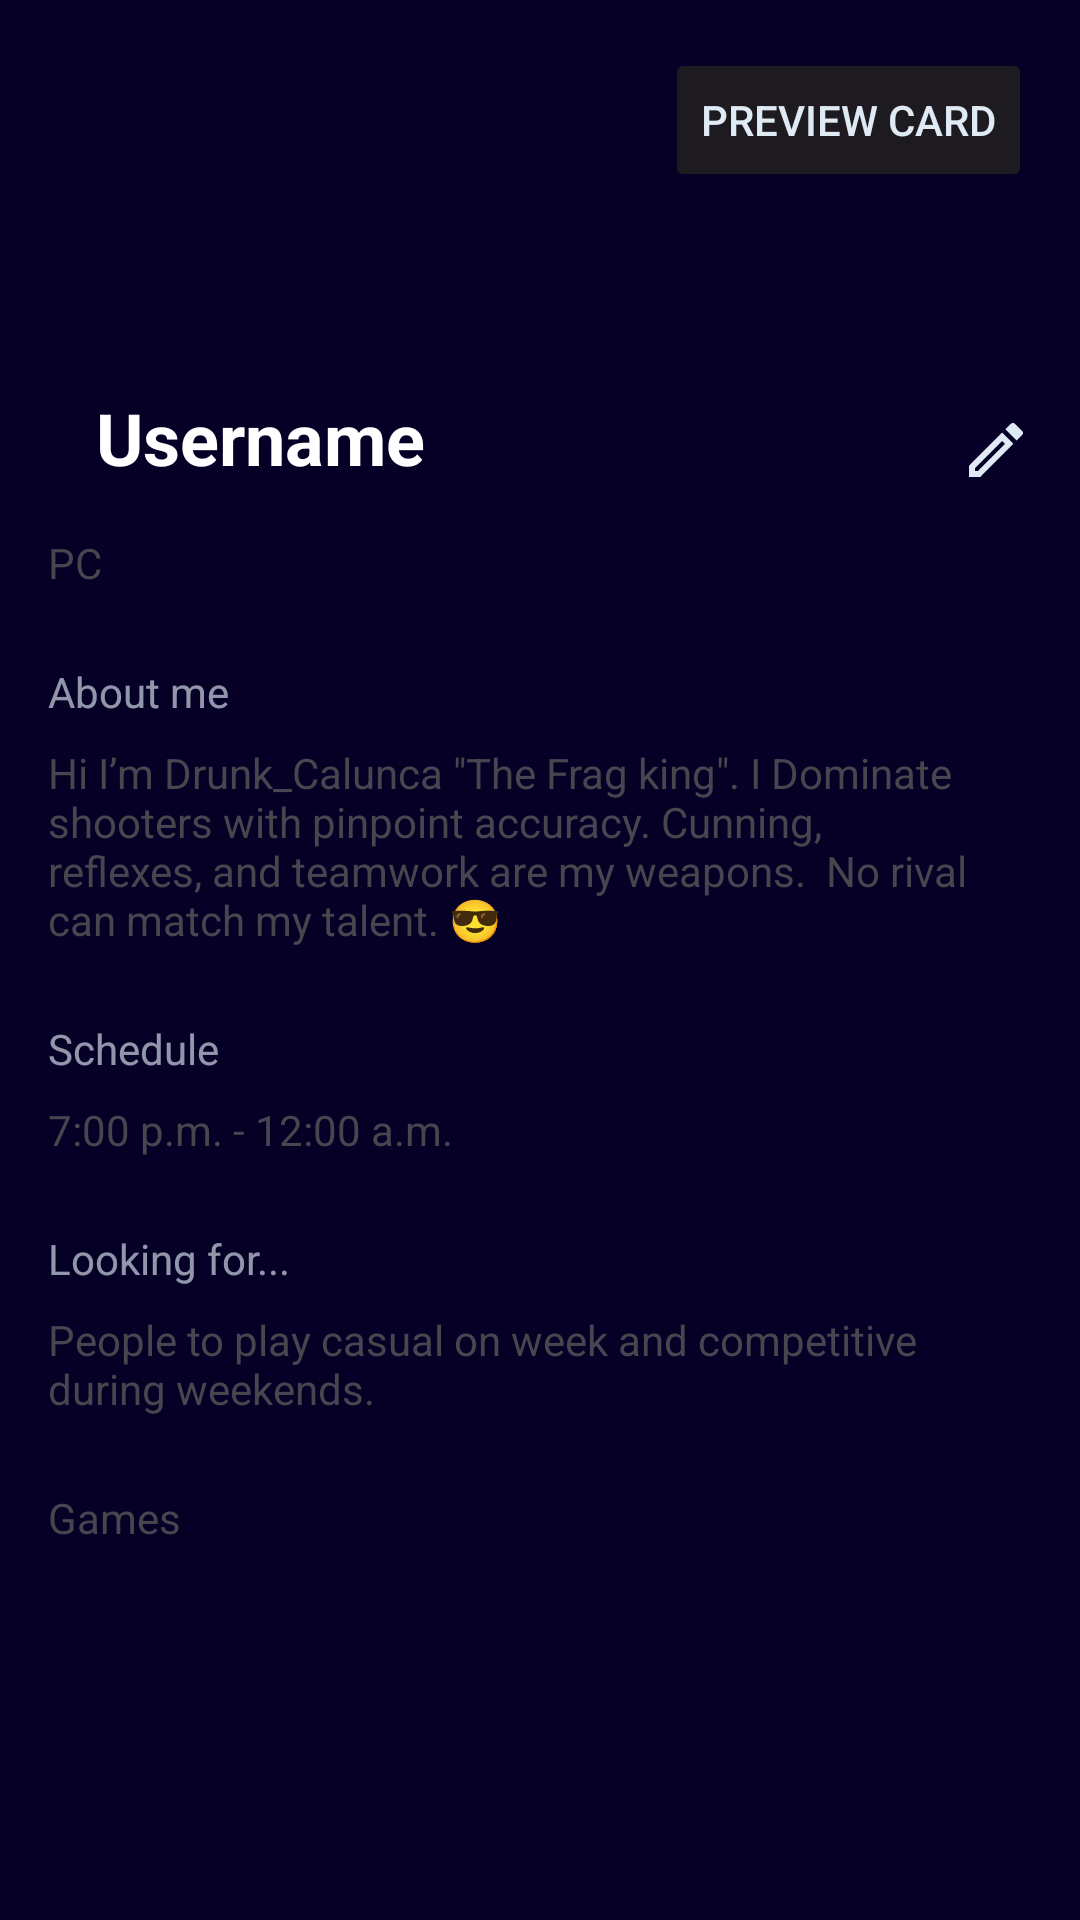

Icon bounding boxes for this 1080px×1920px phone screenshot, format (x1, y1, x2, y2):
edit: (969, 423, 1023, 477)
